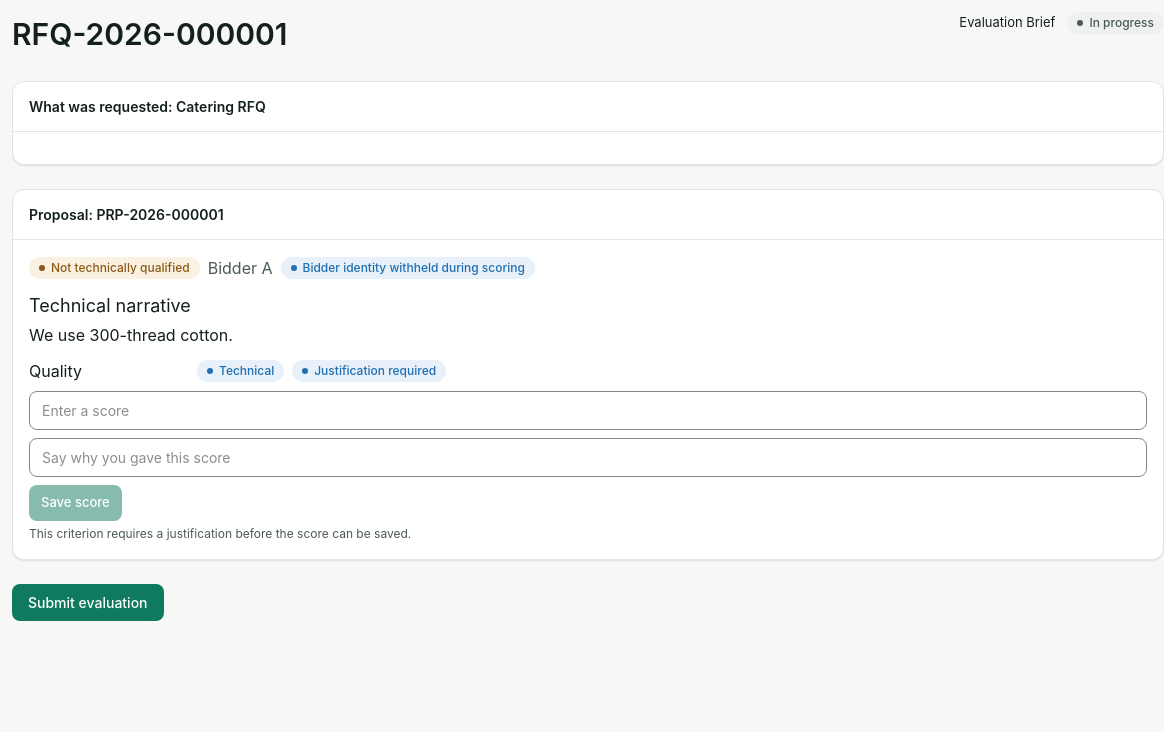
Scenario: MyEvaluationPage › sends the justification in ONE language - the evaluator's own
This screenshot has width=1164, height=732.
Type "75" into the number field named "Score: Quality".
click(588, 410); type("75")  # box [29, 391, 1147, 430]
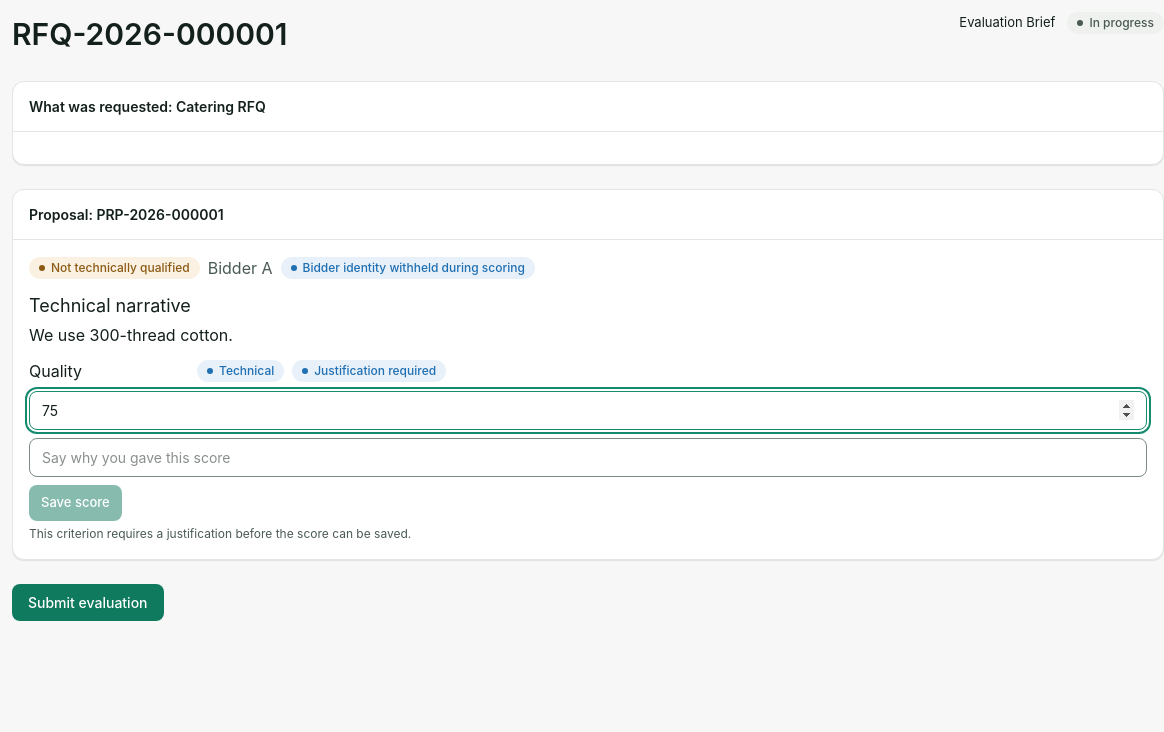
Type "Cheapest compliant bid." into the field named "Justification: Quality".
click(588, 458); type("Cheapest compliant bid.")  # box [29, 438, 1147, 477]
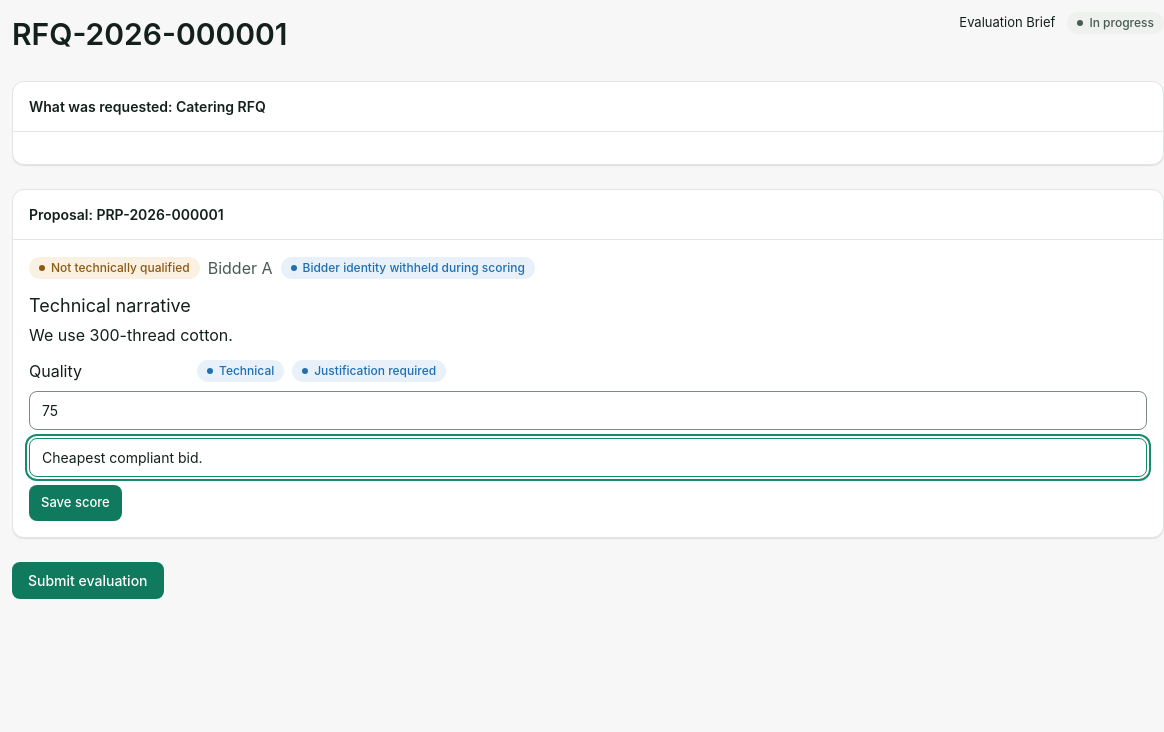
Click the button "Save score".
click(75, 503)  # box [29, 485, 122, 520]
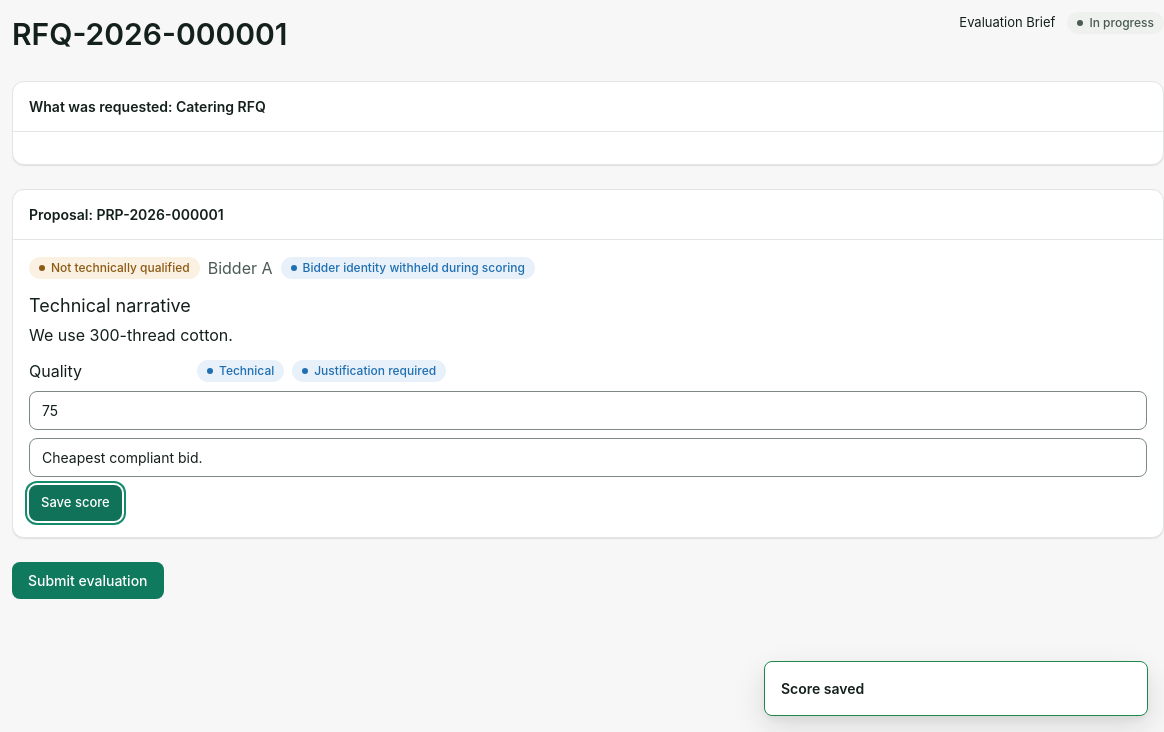
Expected: the text "Score saved" is shown, [781, 680, 864, 697]
